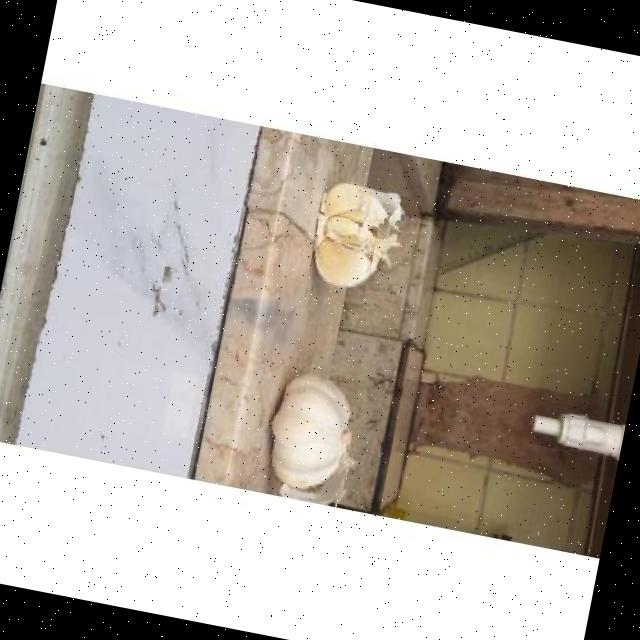garlic: (313, 182, 402, 287), (271, 374, 349, 488)
